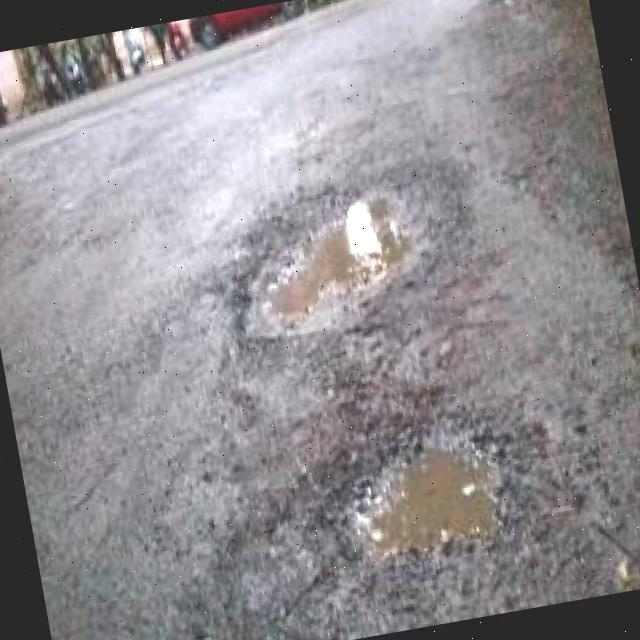waterlogging: (208, 158, 464, 352), (332, 416, 522, 580)
